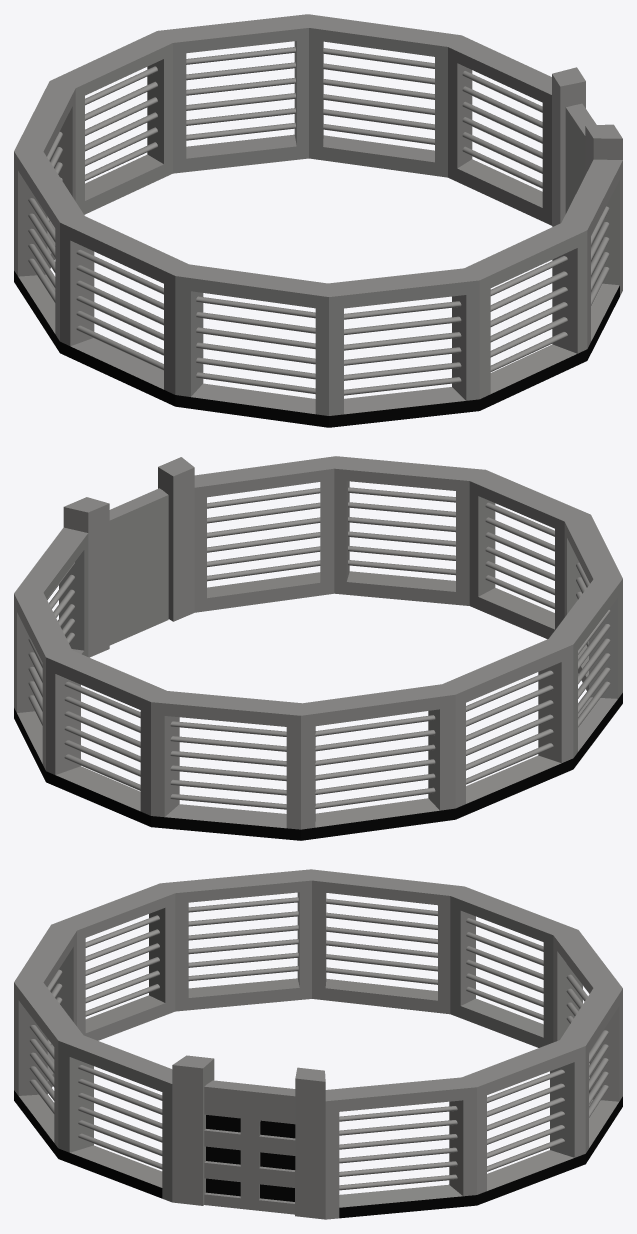
Rendered from celda.obj.
The picture shows the model from 3 angles, top to bottom: view 1: azimuth 30°, elevation 25°; view 2: azimuth 150°, elevation 25°; view 3: azimuth 270°, elevation 25°; orthographic projection. The views are drawn at different scales.
Parts seen in each view (by area): view 1: group9_pasted__group2_pasted__pasted__pCylinder1; view 2: group9_pasted__group2_pasted__pasted__pCylinder1; view 3: group9_pasted__group2_pasted__pasted__pCylinder1.
Boxes of the visible parts, box(x1,y1,x2,y2) form: group9_pasted__group2_pasted__pasted__pCylinder1: box(14, 14, 622, 427); group9_pasted__group2_pasted__pasted__pCylinder1: box(14, 456, 622, 840); group9_pasted__group2_pasted__pasted__pCylinder1: box(14, 869, 622, 1219).
Bounding box in the file's own units: 81.9 × 22.68 × 90.87.
Materials: 2 (2 with a texture image).
